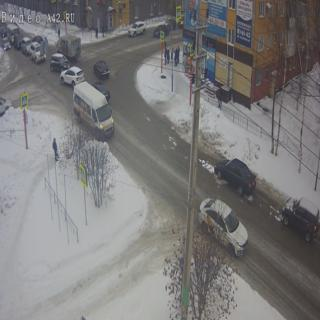large-vehicle: (73, 82, 114, 139), (56, 36, 81, 63), (8, 23, 20, 45)
small-vehicle: (200, 198, 248, 258), (214, 159, 256, 196), (282, 198, 319, 240), (60, 66, 85, 89), (91, 81, 111, 104), (50, 54, 72, 72), (94, 60, 110, 80), (31, 43, 46, 64), (129, 21, 146, 36), (153, 24, 170, 38), (0, 96, 12, 115), (22, 37, 33, 56), (164, 18, 177, 30), (2, 36, 11, 52), (33, 35, 44, 46), (15, 36, 23, 50), (178, 14, 185, 28), (1, 25, 7, 37)
